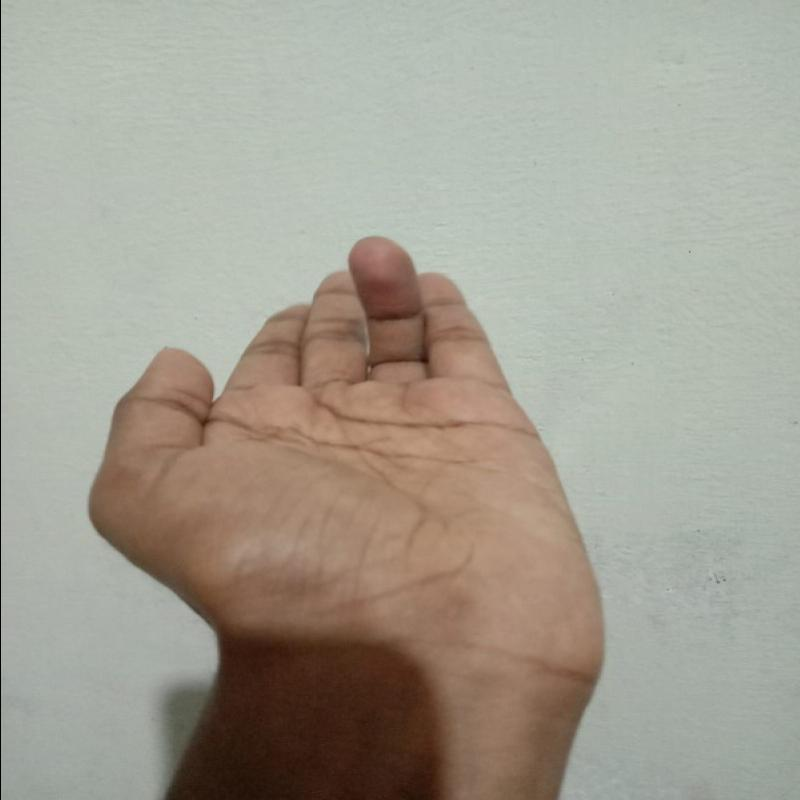Pathaaka: (73, 208, 627, 698)
